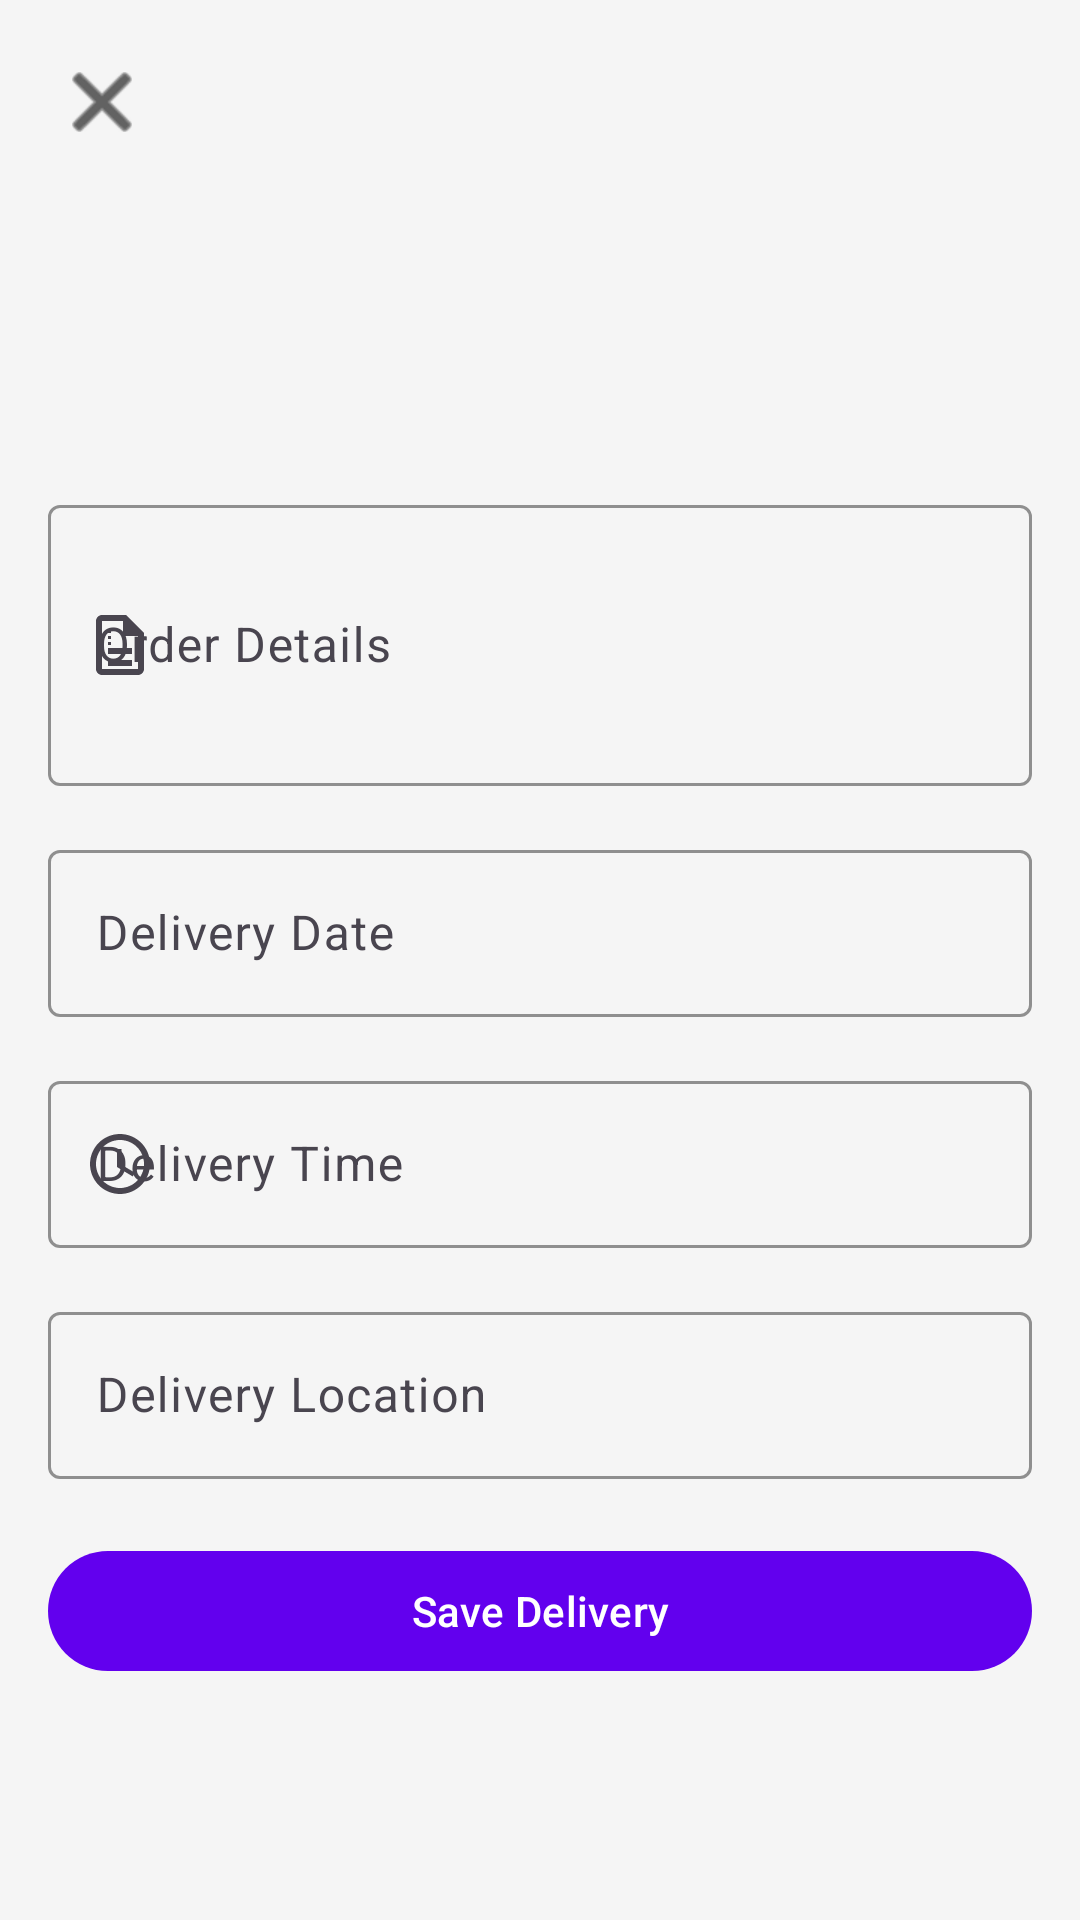

Where to tap for icons on this 1080 × 1920 app screen, as (x,y):
Close: (102,102)
